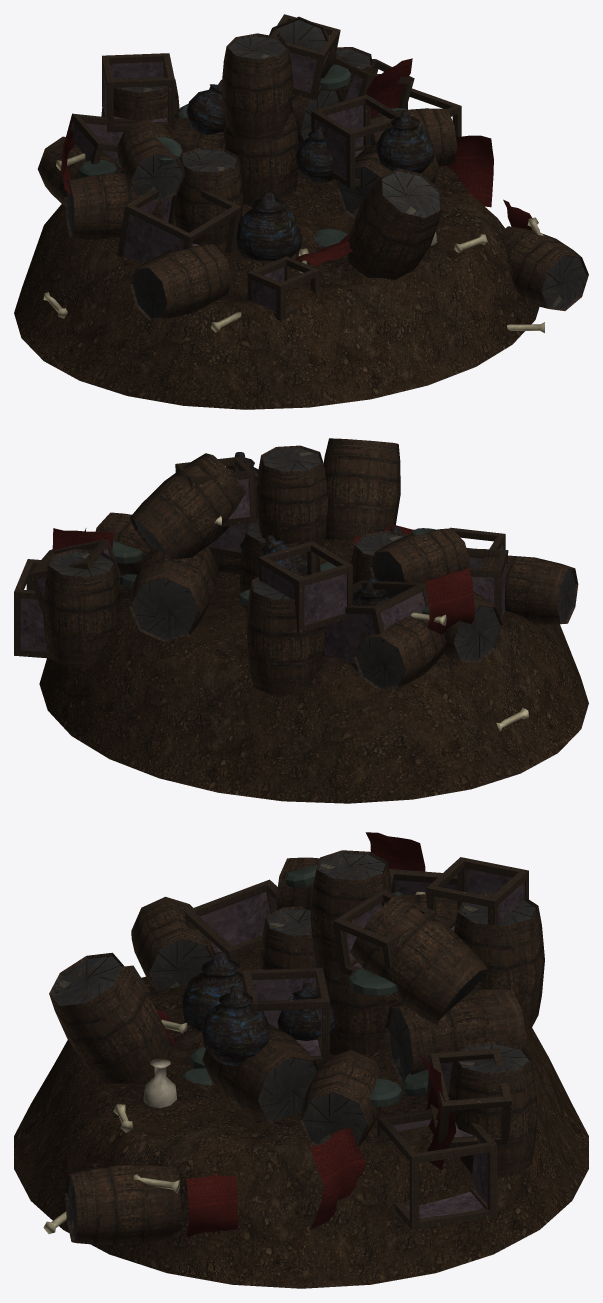
File: mm7_deco_7dec10.glb
3 views of the same model, one above another, from view 1: azimuth 30°, elevation 25°; view 2: azimuth 150°, elevation 25°; view 3: azimuth 270°, elevation 25° (orthographic). The views are drawn at different scales.
Visible parts, largest first — view 1: Base; view 2: Base; view 3: Base.
Boxes of the visible parts, <box> form: Base: <box>14,14,588,409</box>; Base: <box>14,438,588,803</box>; Base: <box>14,832,588,1288</box>.
Bounding box in the file's own units: 3.13 × 1.55 × 2.79.
8 materials, 8 textured.
